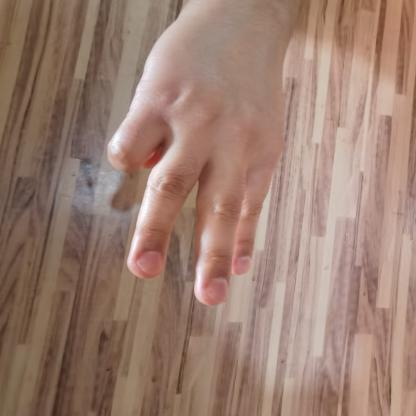M: (94, 0, 319, 312)
